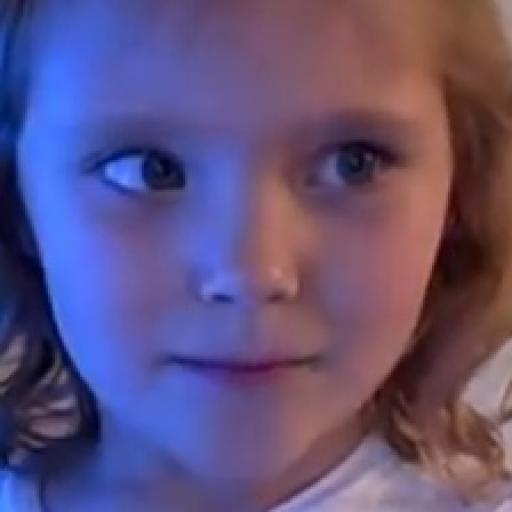Autism: (0, 0, 512, 478)
